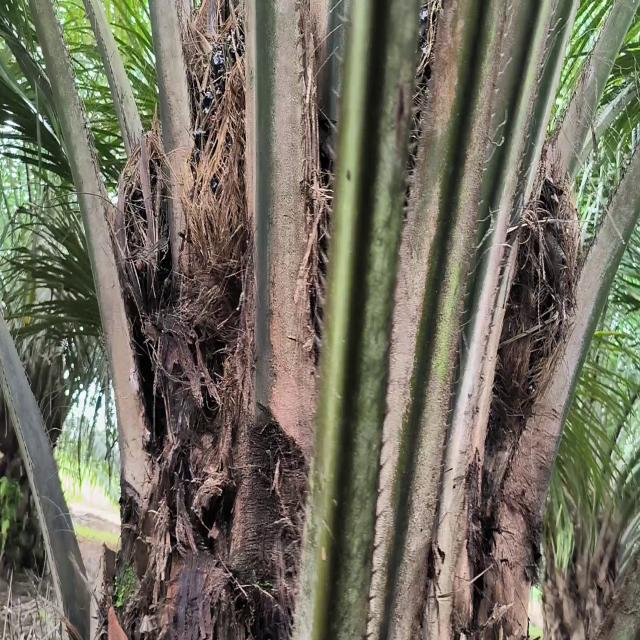palm-oil: (187, 37, 259, 298)
